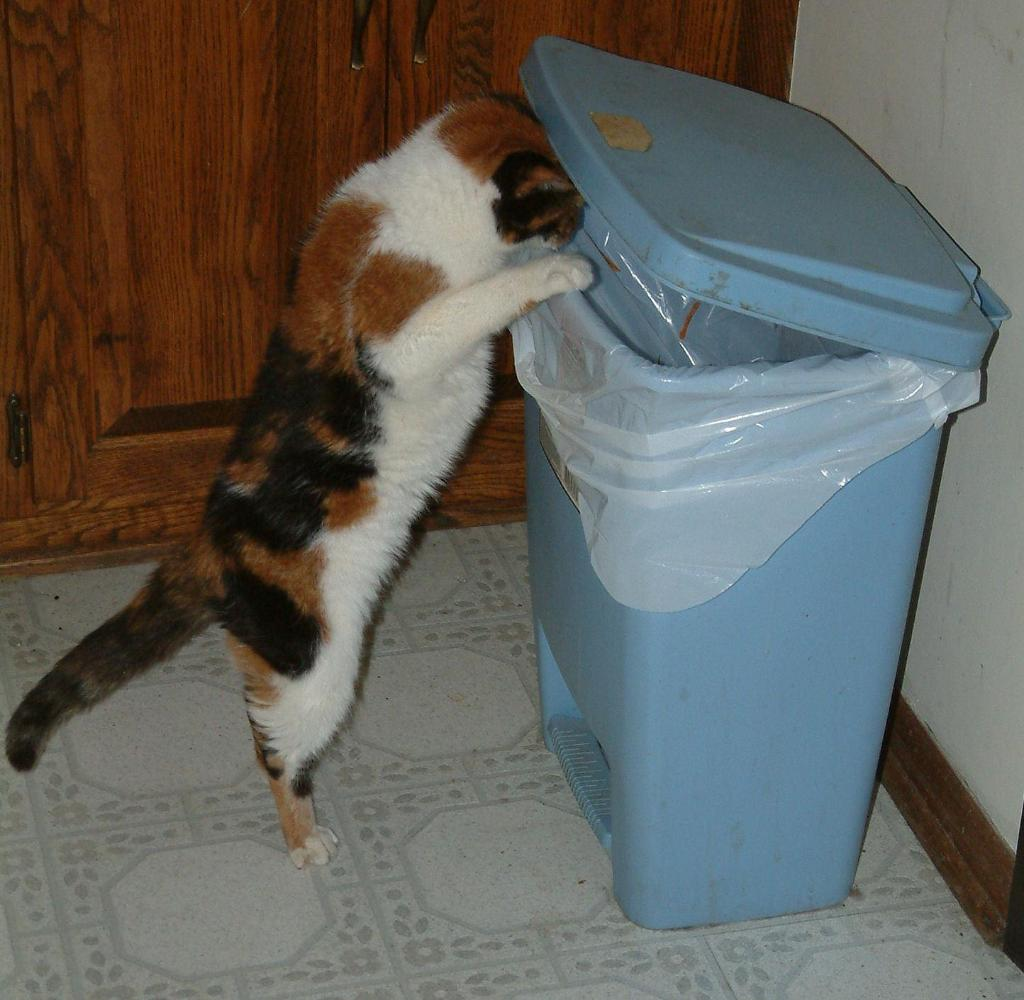dustbin: (488, 37, 1015, 965)
